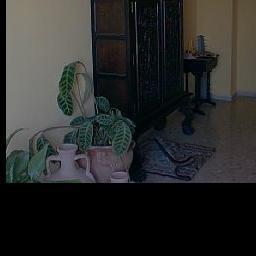Armario: (94, 0, 187, 115)
Matera: (55, 63, 132, 169)
